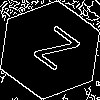Z: (25, 25, 81, 80)
